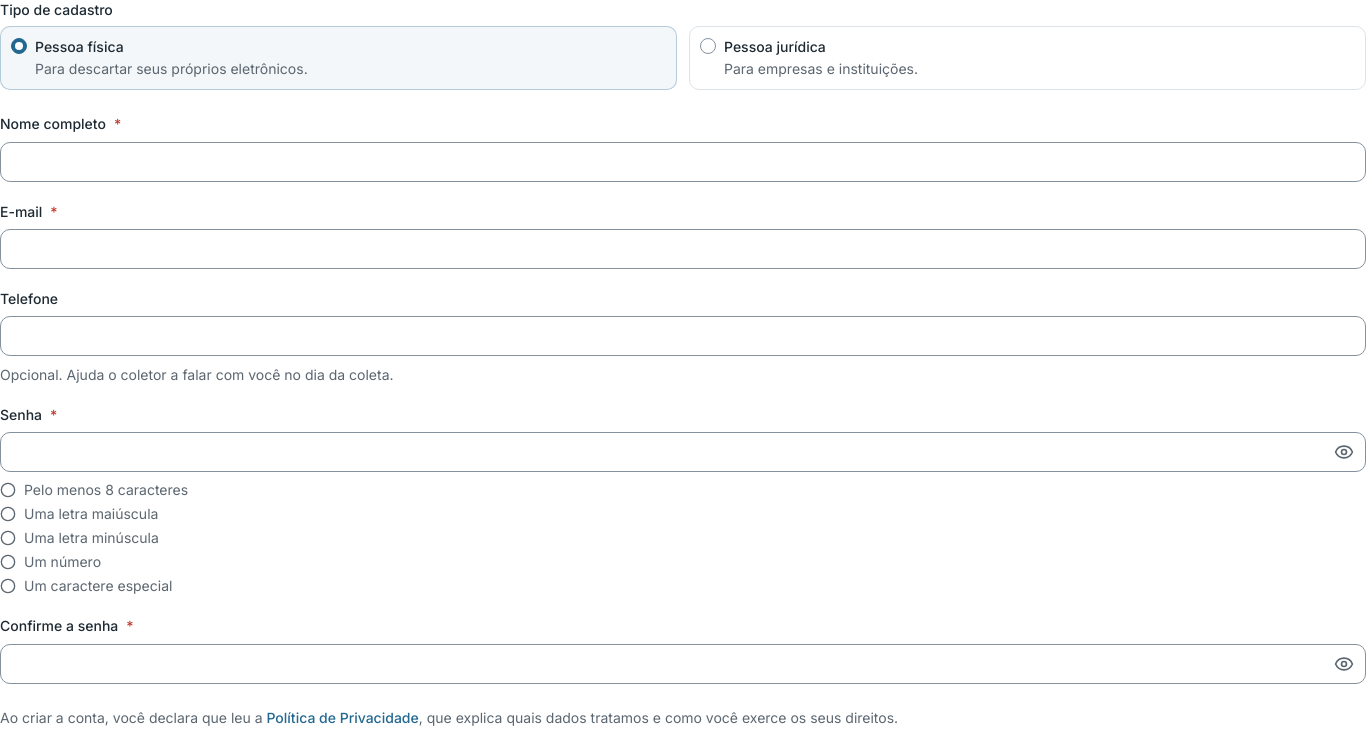
Test: RegistrationForm (11 §70, 17_TESTING §77) › exibe alerta para e-mail já cadastrado (409)
This screenshot has width=1366, height=749.
In the field labelled "Nome completo *": {"x": 683, "y": 162} [0, 142, 1365, 182], type "Mariana Oliveira"
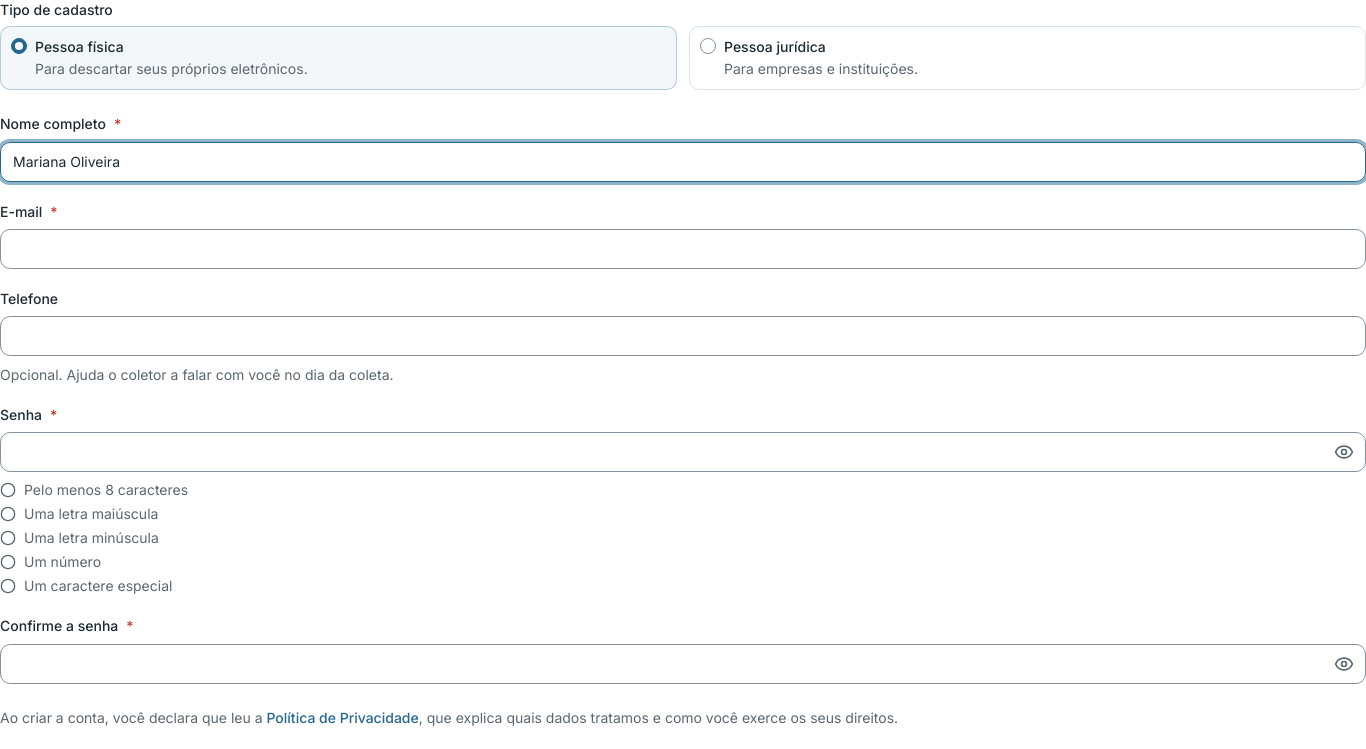
In the field labelled "E-mail *": {"x": 683, "y": 249} [0, 229, 1365, 269], type "mariana@teste.local"
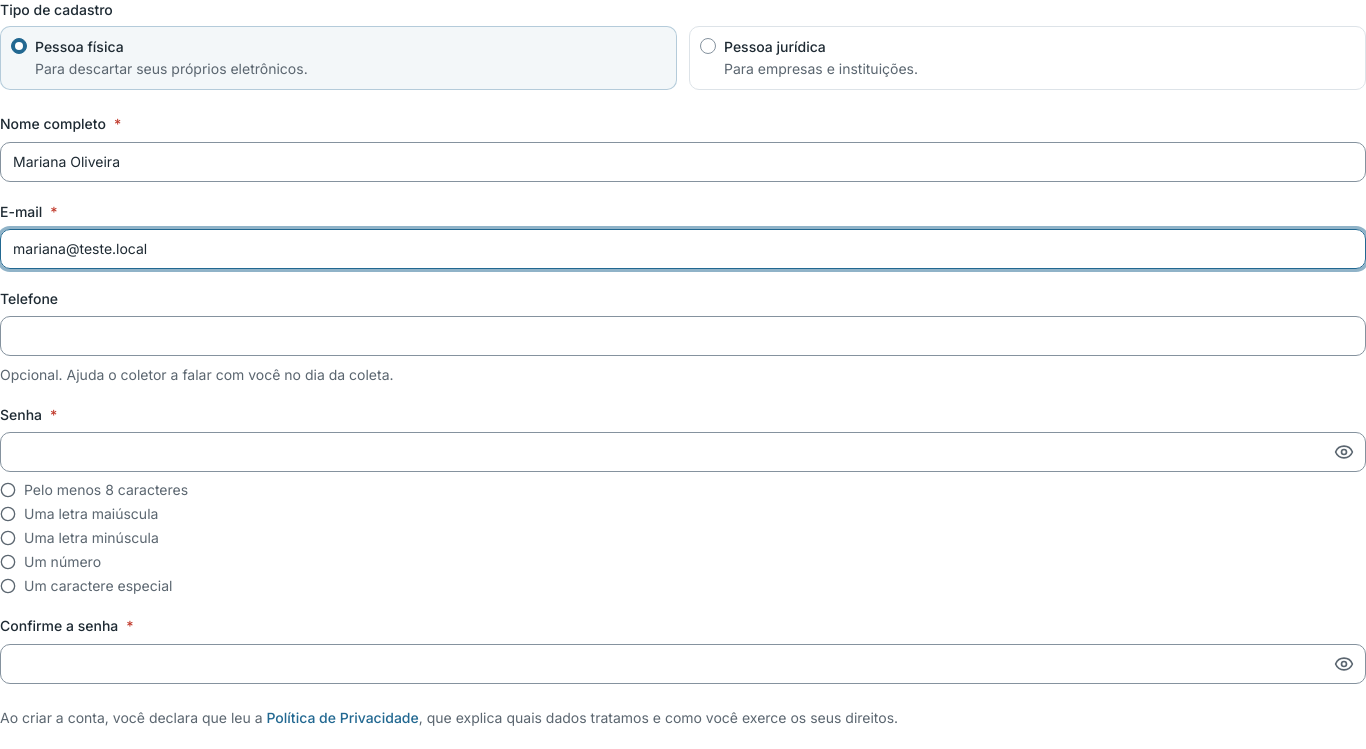
In the password field labelled "Senha *": {"x": 683, "y": 452} [0, 432, 1365, 472], type "Senha@123"
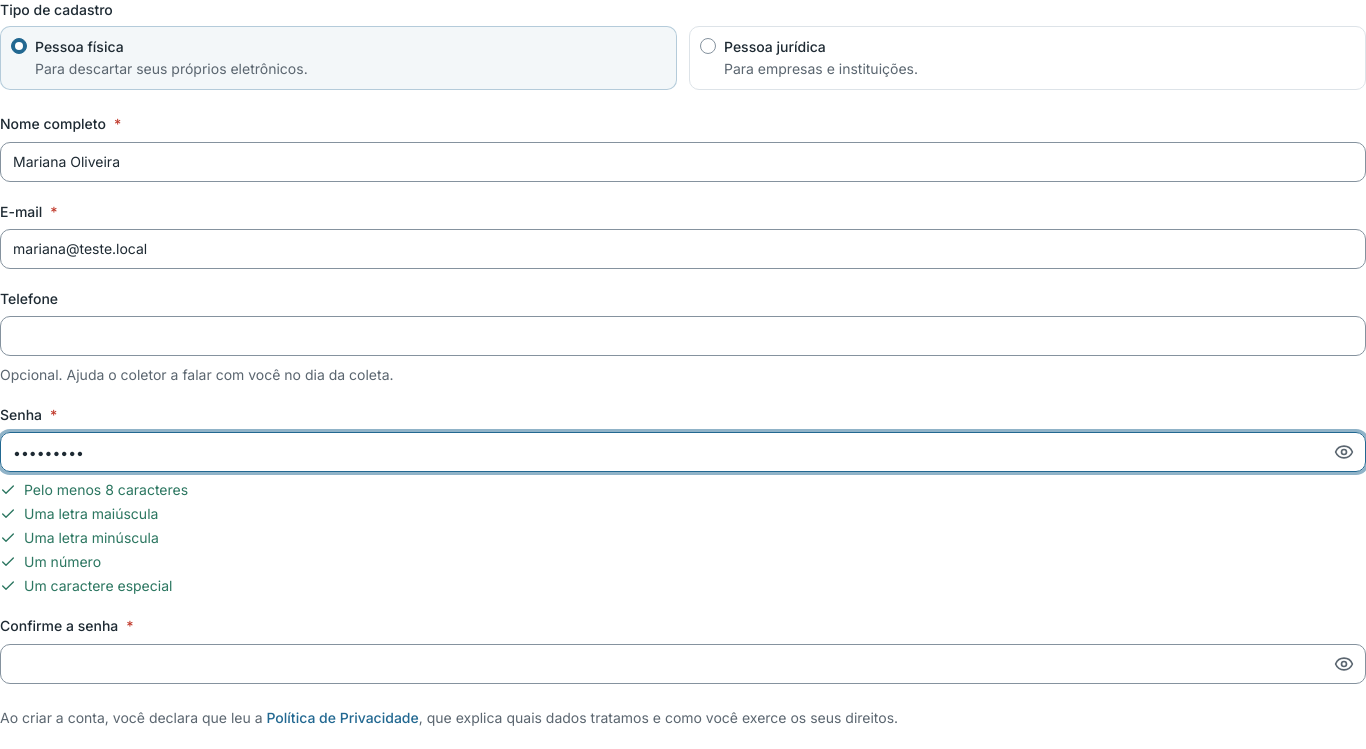
In the password field labelled "Confirme a senha *": {"x": 683, "y": 664} [0, 644, 1365, 684], type "Senha@123"
(page scrolled)
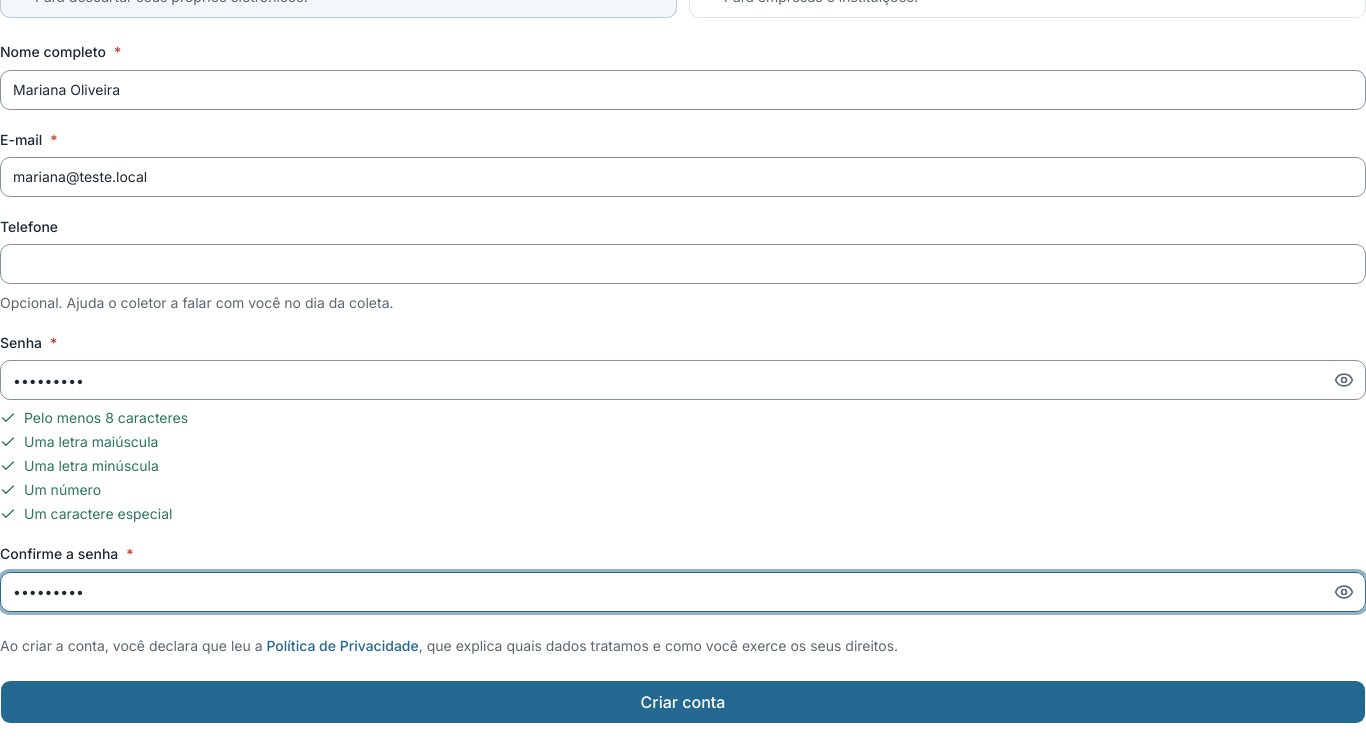
Click the button "Criar conta": {"x": 683, "y": 702} [0, 680, 1365, 724]
(page scrolled)
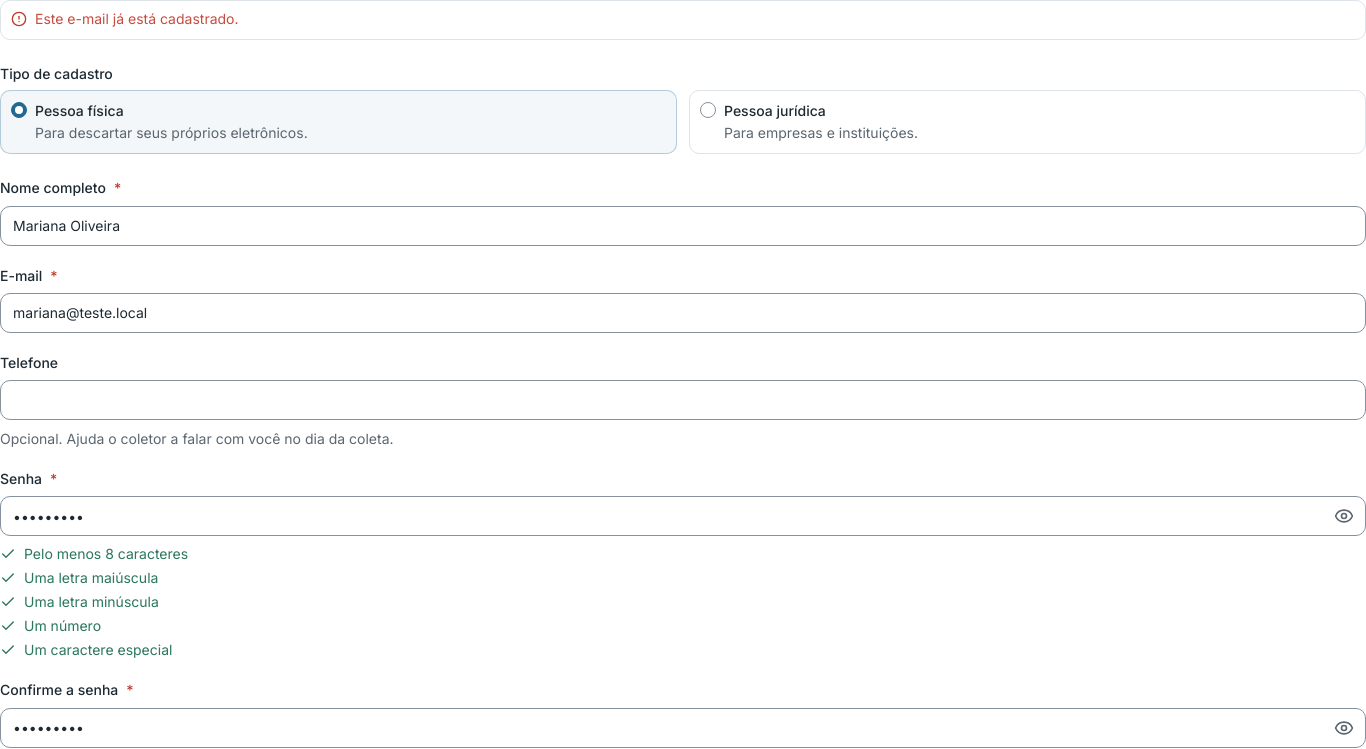
Expected: the text "Este e-mail já está cadastrado." is shown, [0, 0, 1365, 40]
